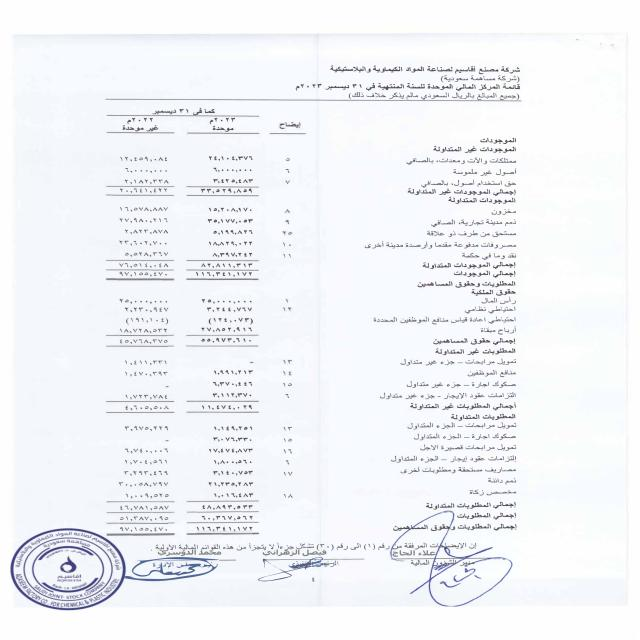financial_sheets: (455, 80, 521, 93)
table: (61, 103, 310, 545)
